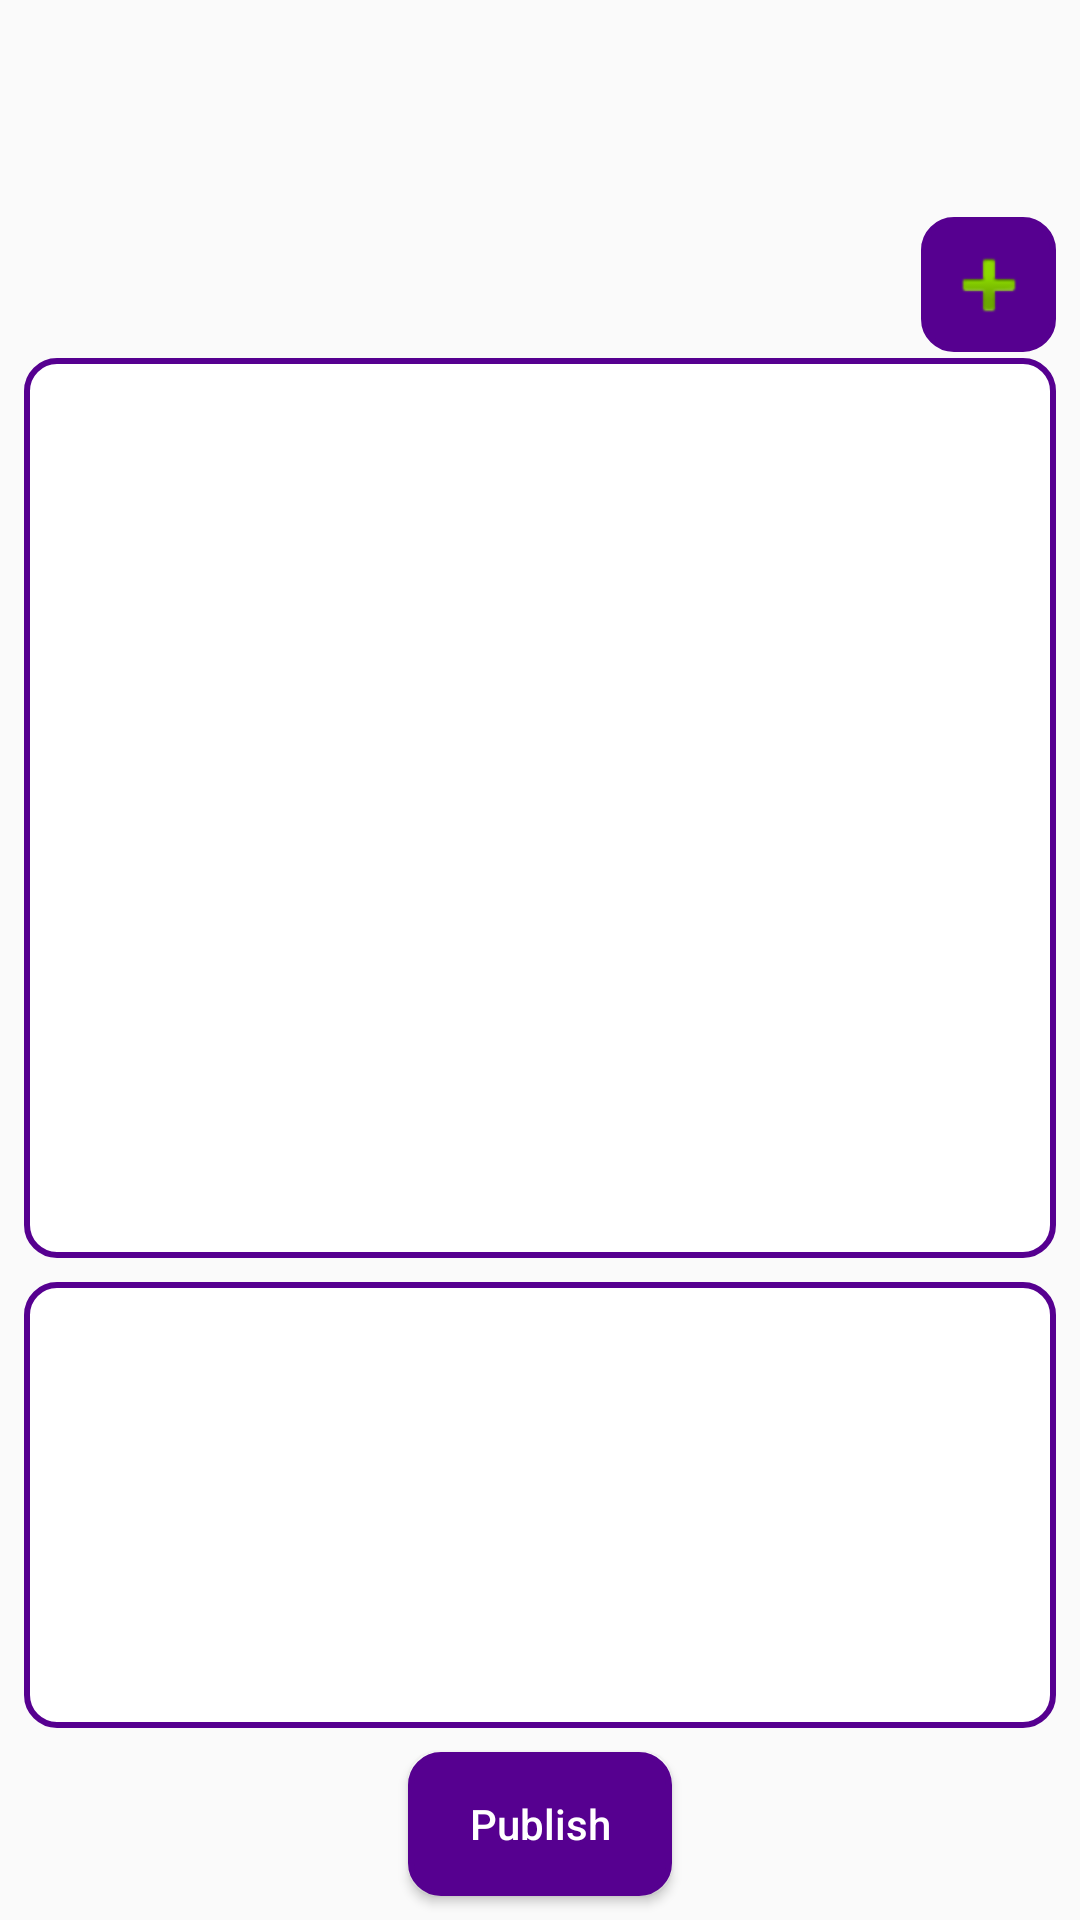

Point at icon controls on the screen. Image size 1080x1920, points as (x=x, y=y).
add: (x=988, y=284)
